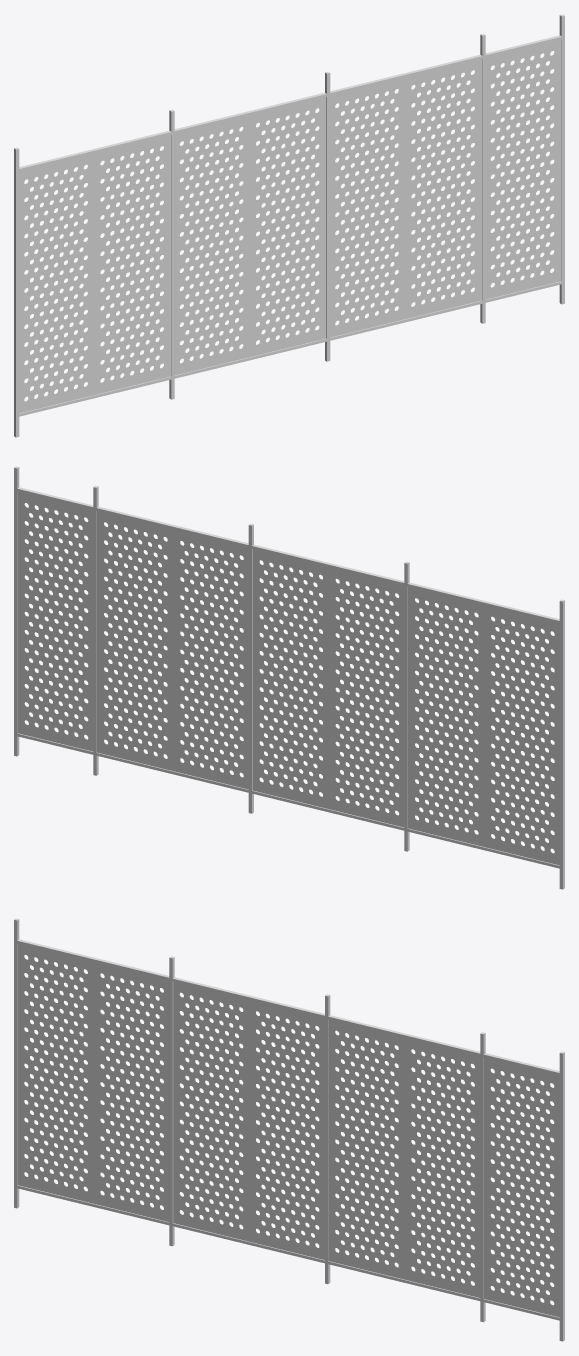
The model's file is cnlounge_hallwall.fbx.
The picture shows the model from 3 angles, top to bottom: view 1: azimuth 30°, elevation 25°; view 2: azimuth 150°, elevation 25°; view 3: azimuth 330°, elevation 25°; orthographic projection.
Parts seen in each view (by area): view 1: cnlounge_hallwall; view 2: cnlounge_hallwall; view 3: cnlounge_hallwall.
Boxes of the visible parts, x1,y1,x2,y2 form: cnlounge_hallwall: (14,14,564,437); cnlounge_hallwall: (14,466,564,889); cnlounge_hallwall: (14,918,564,1341).
Size of the model in its own units: 0.0567 by 0.0284 by 0.000357.
Materials: 1 (1 with a texture image).
